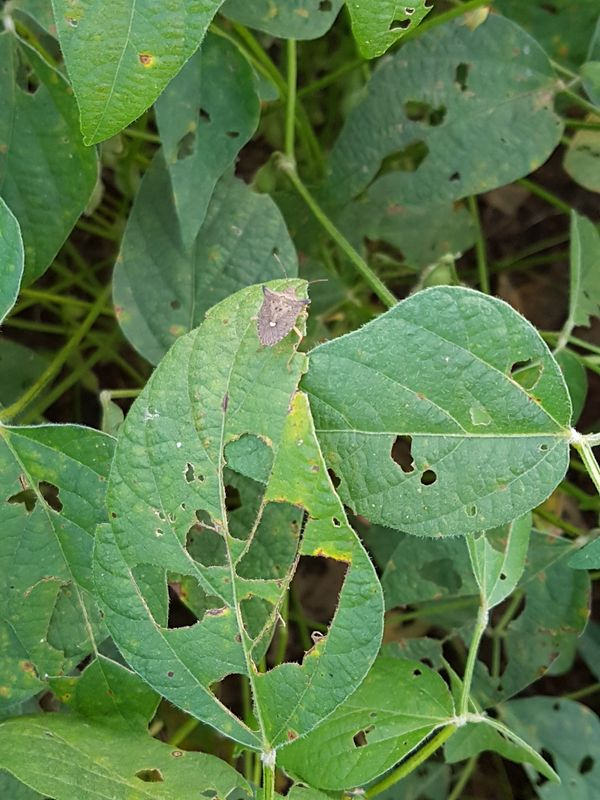Euschistus_heros_adulto: (245, 253, 332, 372)
